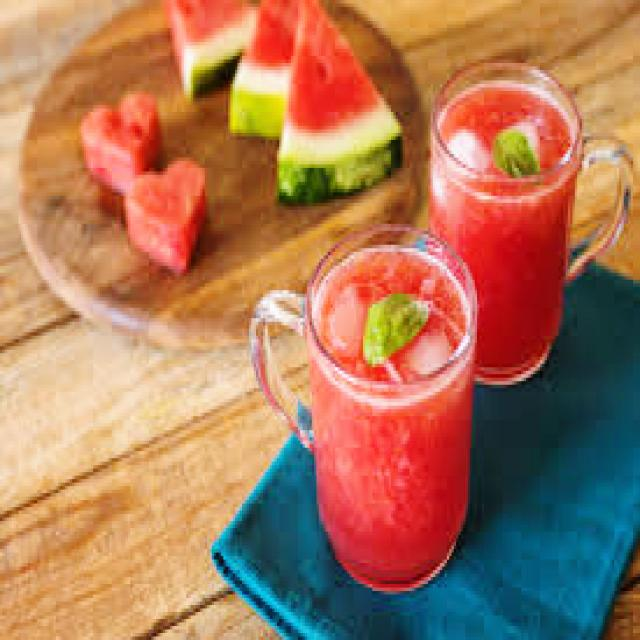drink: (279, 221, 482, 608), (428, 56, 584, 399)
